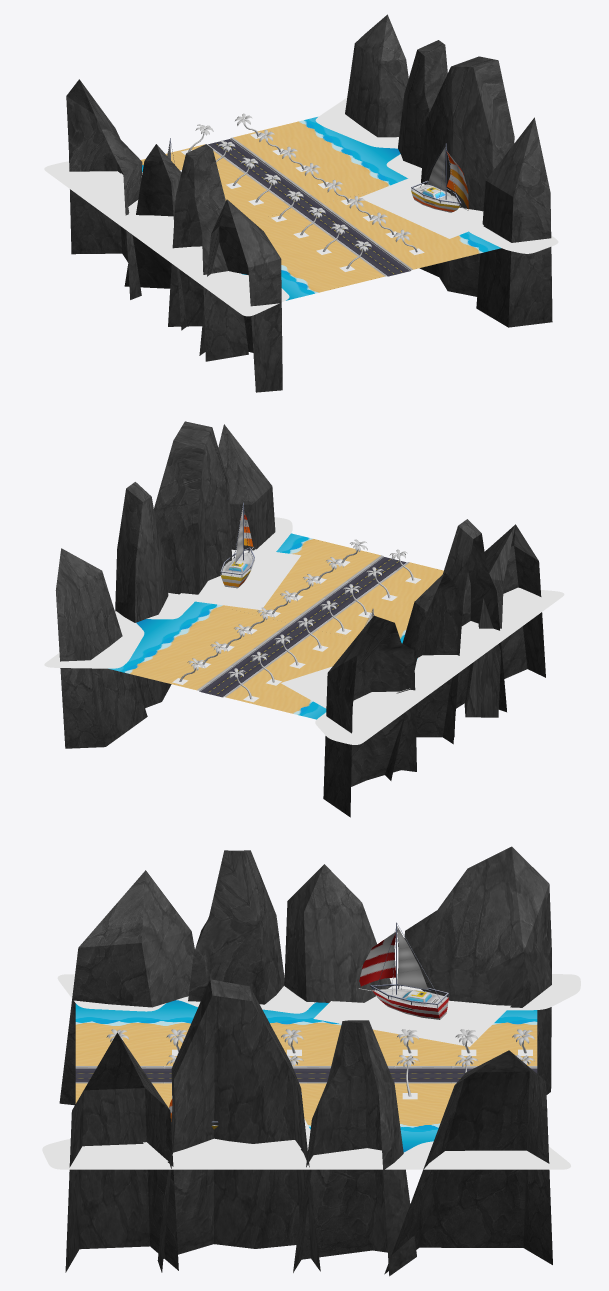
File: Beach_02.fbx
3 renders of one model, top to bottom at view 1: azimuth 30°, elevation 25°; view 2: azimuth 150°, elevation 25°; view 3: azimuth 270°, elevation 25°, orthographic. The views are drawn at different scales.
Parts seen in each view (by area): view 1: Beach_02; view 2: Beach_02; view 3: Beach_02.
Boxes of the visible parts, x1,y1,x2,y2 form: Beach_02: (44, 14, 558, 392); Beach_02: (44, 421, 564, 817); Beach_02: (42, 846, 580, 1276).
Bounding box in the file's own units: 22617 × 13384 × 25170.
